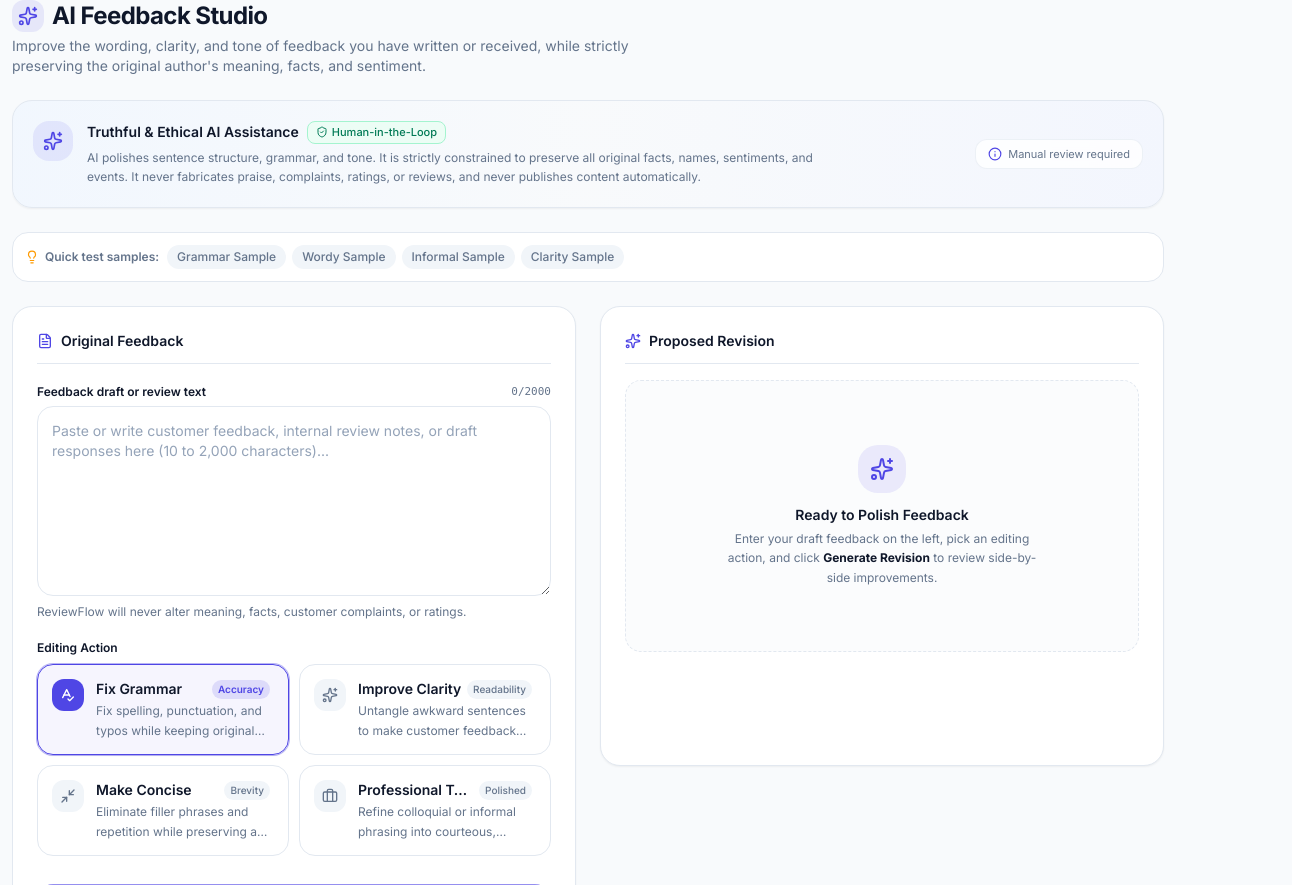
Test: AI Feedback Studio Component › supports explicit Accept Revision action
Replace the text in the text box with placeholder "Paste or write customer feedback" with "the steak was cold and fries were soggy" at (294,501), box [37,406,551,596]
(page scrolled)
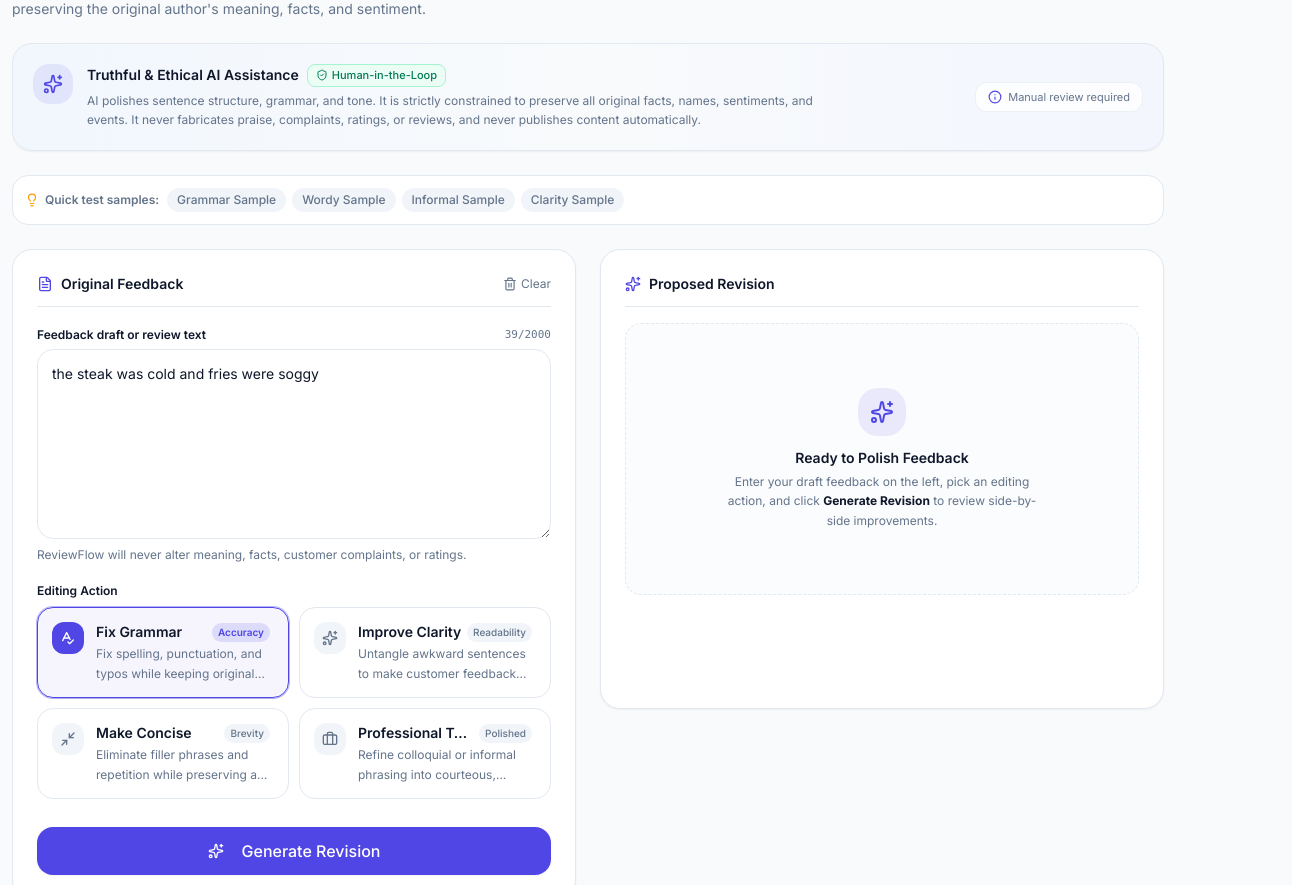
Click the button "Generate Revision" at (294,851), box [37,827,551,875]
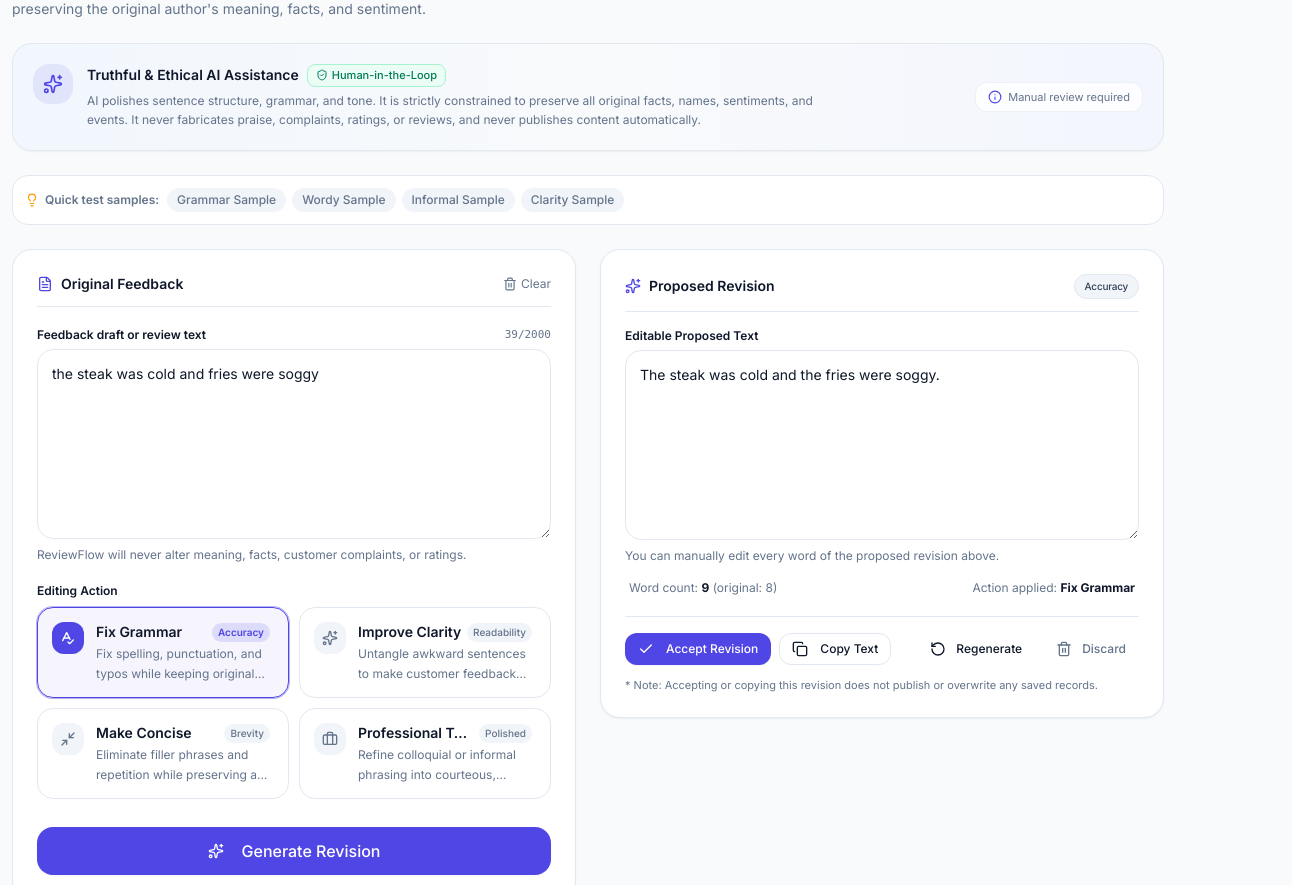
Expected: the button with aria-label "accept proposed revision" is shown
Click the button with aria-label "accept proposed revision" at (698,648), box [625,632,771,664]
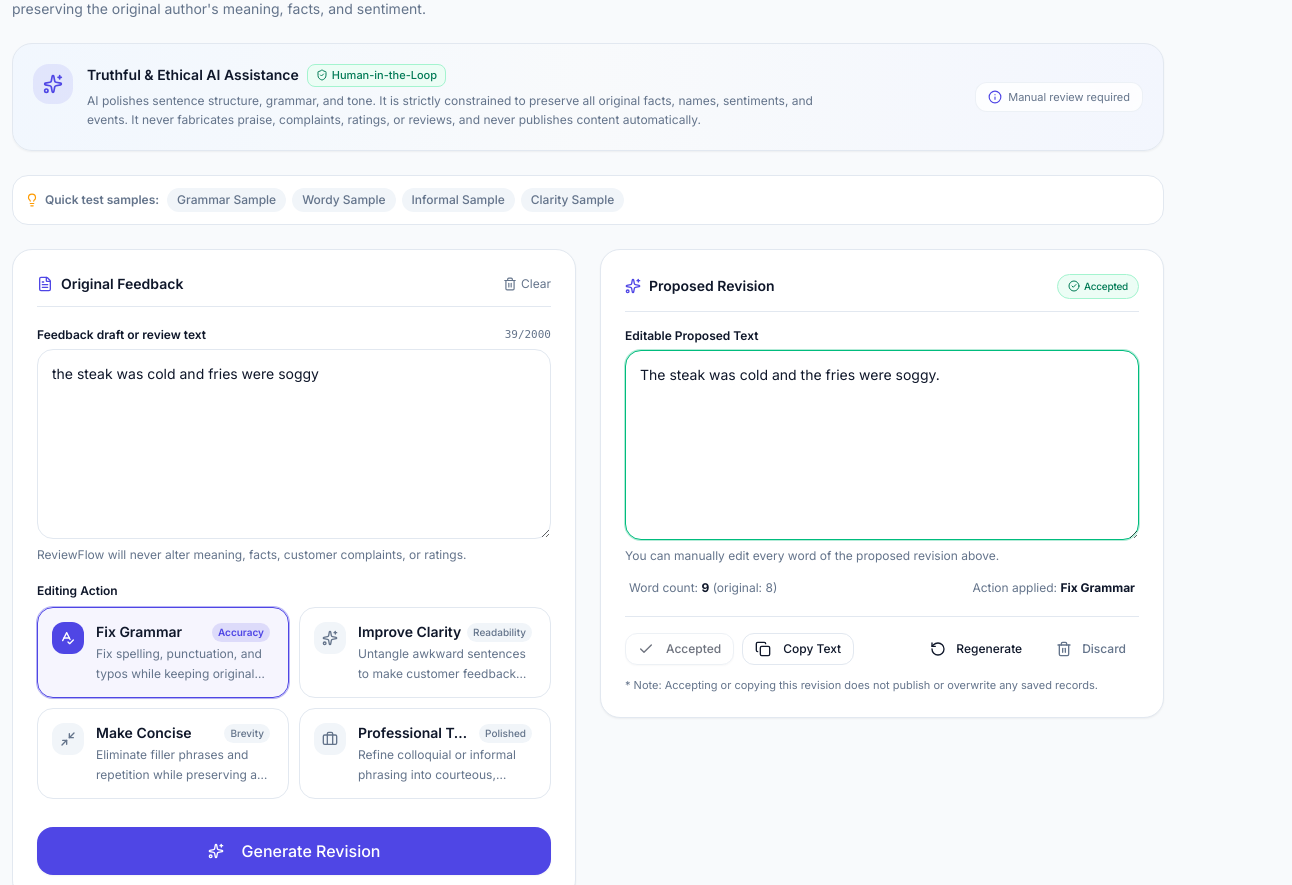
Expected: the button "Accepted" is disabled, [625,632,734,664]
